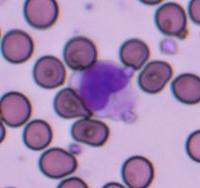M: (74, 59, 136, 118)
